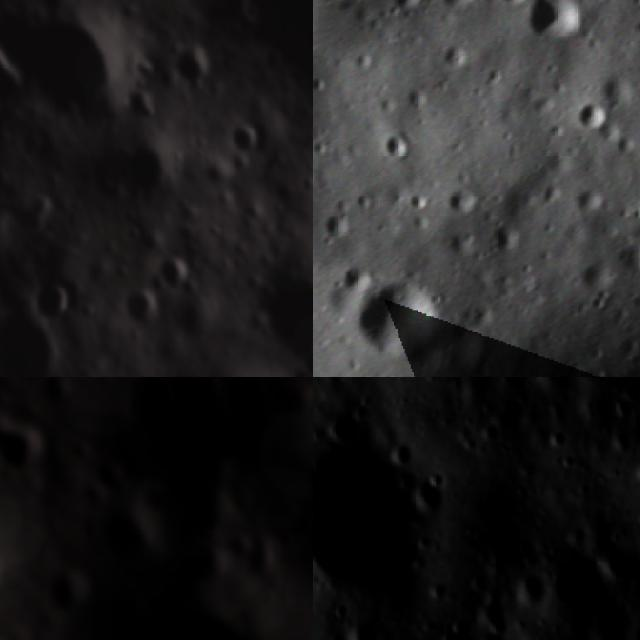crater: (313, 443, 427, 606), (330, 254, 461, 377), (2, 0, 125, 123), (506, 0, 604, 74), (261, 251, 313, 373), (119, 134, 188, 208), (549, 540, 606, 612), (0, 320, 67, 377), (125, 377, 182, 440), (109, 500, 158, 567), (436, 175, 492, 230), (566, 253, 622, 308), (164, 39, 218, 95), (484, 510, 531, 573), (313, 200, 364, 255), (31, 273, 78, 332), (566, 94, 619, 144), (0, 415, 45, 472), (478, 218, 528, 267), (368, 119, 417, 168), (120, 287, 163, 335), (323, 400, 365, 448), (597, 542, 638, 586), (222, 117, 268, 155), (248, 532, 282, 582), (410, 476, 449, 518), (162, 252, 198, 294), (486, 0, 540, 28), (44, 574, 84, 611), (424, 0, 486, 21), (516, 563, 546, 606), (392, 538, 424, 574), (386, 434, 418, 468), (434, 613, 472, 640), (344, 613, 381, 640), (606, 424, 635, 456), (545, 424, 573, 453), (608, 392, 634, 422), (328, 595, 354, 623), (464, 570, 489, 595), (319, 627, 345, 640)
